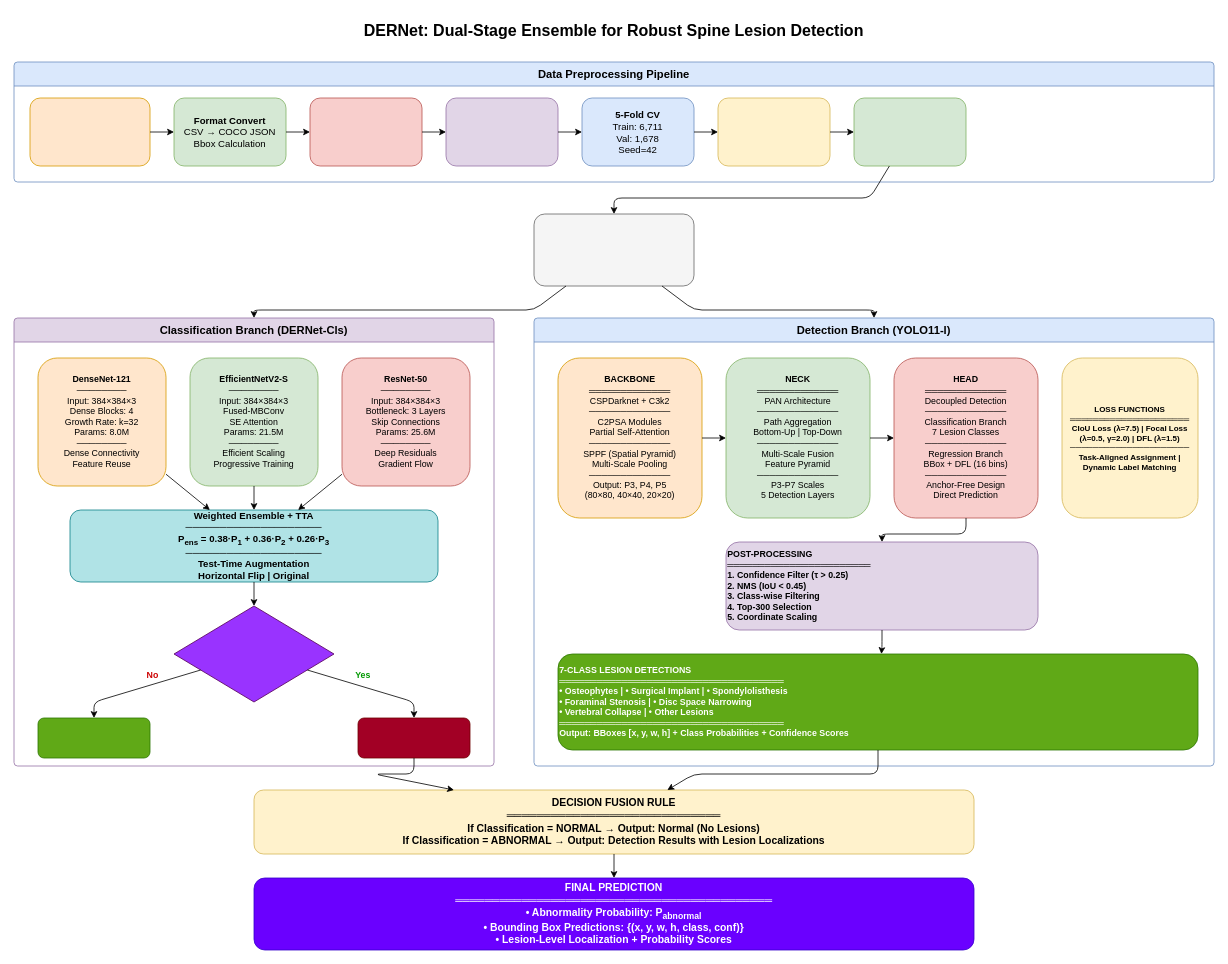
The diagram is 1228 pixels wide and 964 high, and some of its shapes have lost their labels. Here are the shapes that lost their labels. From the top down, the centre of each, then its label:
the point at 89,131: VinDr-SpineXR 8,389 Images 7 Pathology Classes
the point at 365,131: Class Balance Imbalance: 46.9:1 Copy-Paste (α=0.2)
the point at 501,131: Augmentation Mosaic, H-Flip Rotation, Mixup Color Jitter
the point at 773,131: Normalize ImageNet Stats 384×384 (Cls) 640×640 (Det)
the point at 909,131: Ready for Training Preprocessed Data Split
the point at 613,249: SPINE X-RAY
the point at 253,653: Threshold Decision ──────── P ens ≥ T* = 0.478 ?
the point at 93,737: NORMAL ──────── No Pathology Detected
the point at 413,737: ABNORMAL ──────── Proceed to Detection
